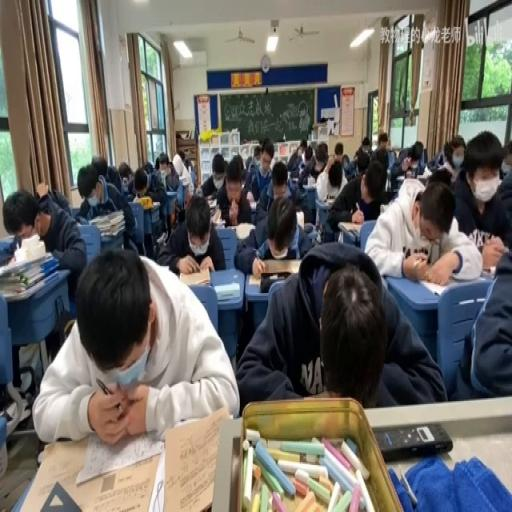calculator: (10, 428, 164, 511), (162, 404, 232, 510), (420, 267, 488, 296), (178, 263, 210, 286), (213, 282, 241, 300), (234, 222, 256, 240), (133, 195, 159, 209), (338, 219, 360, 233), (210, 205, 224, 223), (204, 194, 218, 208), (154, 230, 166, 246), (479, 266, 495, 277), (406, 162, 418, 176), (296, 209, 304, 229), (304, 176, 317, 188), (322, 196, 336, 206), (416, 174, 429, 184), (222, 222, 238, 230), (177, 174, 189, 184), (248, 200, 258, 212), (194, 183, 202, 195), (379, 202, 387, 213), (290, 176, 298, 184), (396, 174, 403, 179)
paper: (34, 245, 236, 442), (235, 238, 441, 406), (366, 174, 480, 282), (453, 207, 512, 399), (4, 185, 86, 304), (236, 192, 314, 277), (76, 158, 142, 256), (158, 190, 225, 276), (325, 154, 389, 236), (208, 154, 250, 228), (247, 138, 275, 205), (390, 137, 426, 189), (428, 135, 462, 182), (157, 151, 182, 193), (286, 142, 310, 181), (368, 145, 388, 179), (117, 160, 133, 190), (133, 166, 149, 196), (499, 141, 512, 176), (354, 148, 370, 176), (326, 162, 341, 189), (342, 150, 355, 180), (35, 181, 49, 206), (91, 155, 107, 176), (315, 144, 328, 165), (377, 132, 389, 152), (333, 142, 343, 164), (251, 145, 261, 165), (244, 154, 253, 174), (142, 161, 153, 175), (443, 149, 452, 165), (436, 149, 444, 165), (178, 148, 186, 163), (184, 156, 192, 170), (360, 138, 370, 149), (154, 156, 160, 170), (298, 149, 304, 161), (301, 138, 307, 149)
person: (374, 422, 452, 461), (260, 270, 290, 293), (315, 222, 325, 243)
